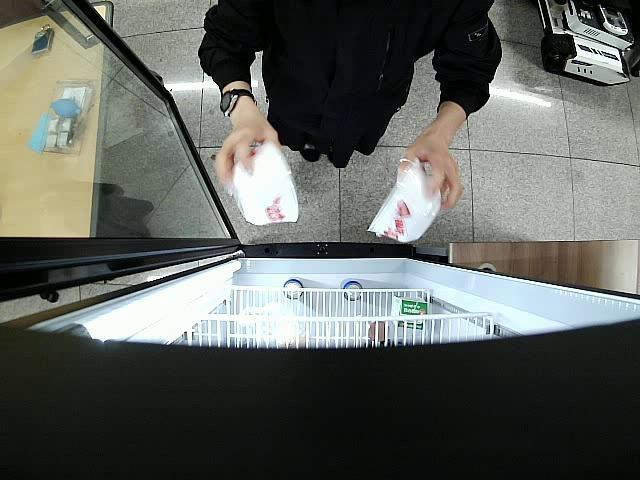09_yukGaeJang: (366, 156, 444, 244), (230, 141, 298, 226)
